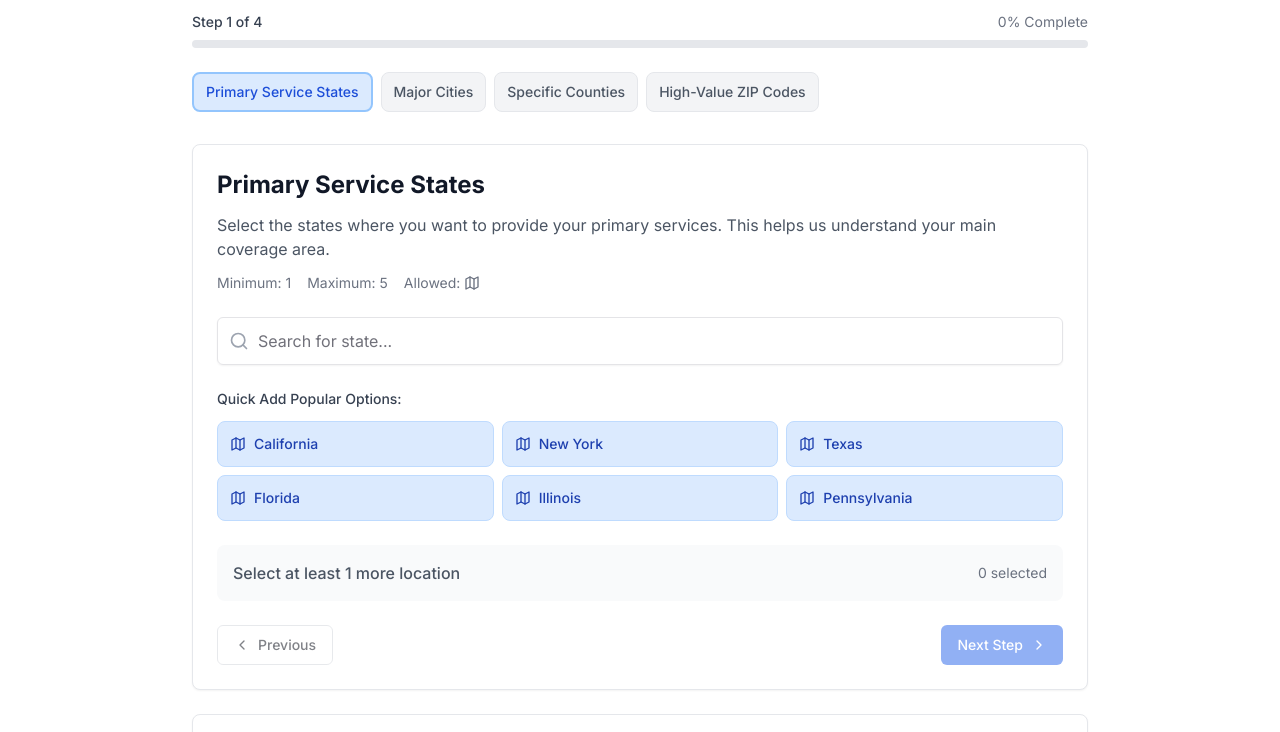
it: QuizLocationChooser › handles location selection
Type "California" into the field with placeholder "Search for state..." at (640, 341), box x1=217 y1=317 x2=1063 y2=365
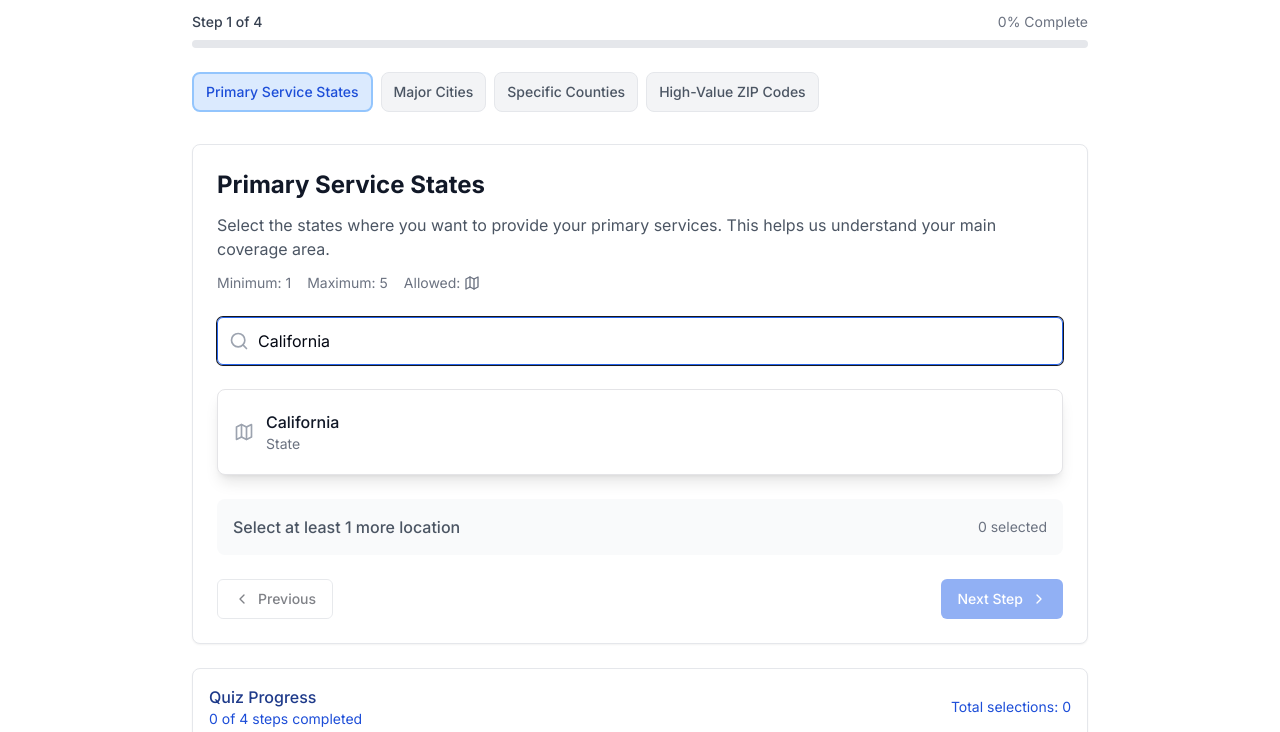
Expected: the text "California" is shown, x1=266 y1=412 x2=339 y2=432
# Click on California option
Click the button "California state" at (303, 422), box x1=218 y1=398 x2=1062 y2=466
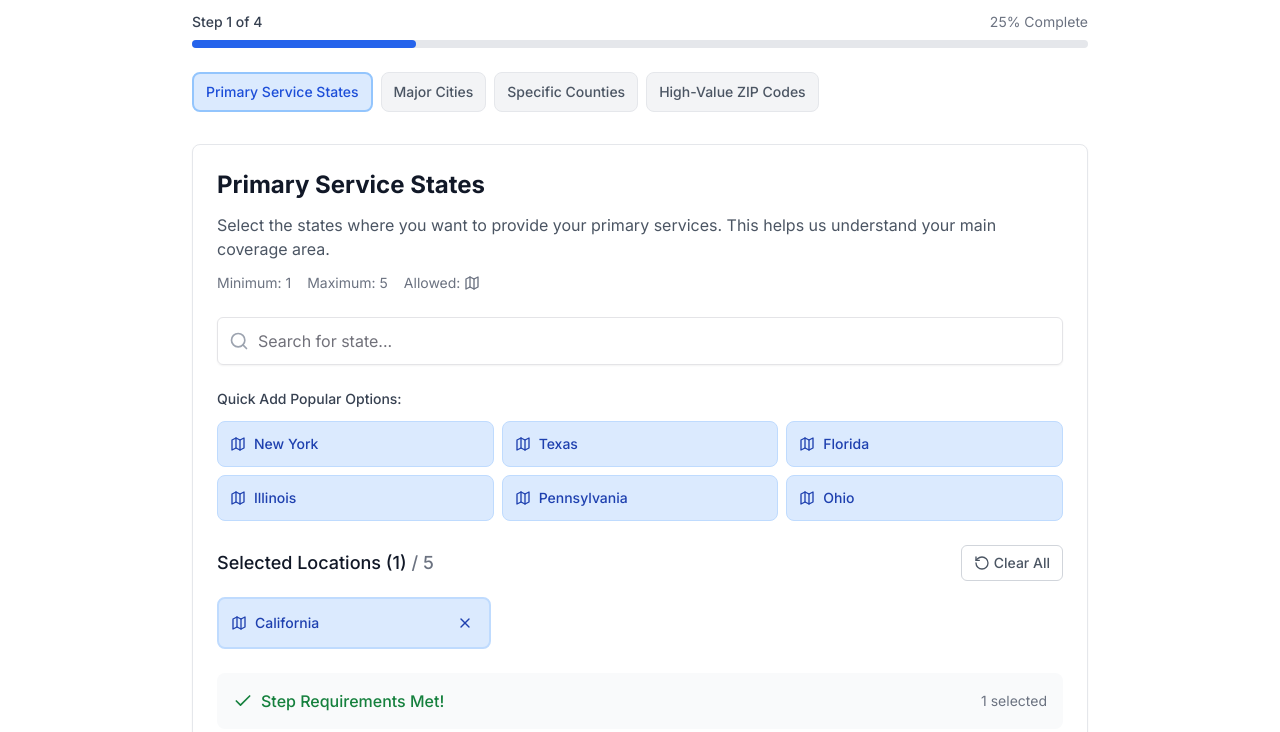
Now the heading "Selected Locations (1) / 5" is shown, box x1=217 y1=549 x2=434 y2=577
